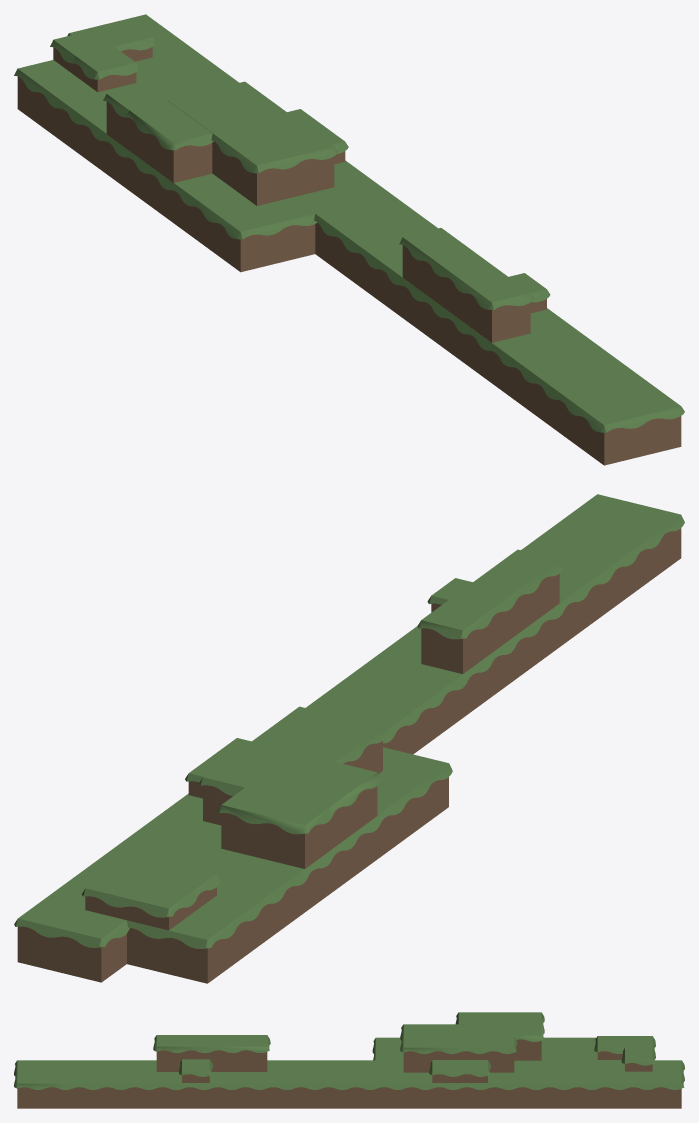
Rendered from wallgroup04.fbx.
3 views of the same model, one above another, from view 1: azimuth 30°, elevation 25°; view 2: azimuth 150°, elevation 25°; view 3: azimuth 270°, elevation 25° (orthographic). The views are drawn at different scales.
Parts seen in each view (by area): view 1: blockSnowLarge.002, blockSnowLarge.006, blockSnowLarge.007, blockSnowLong.001, blockSnowLong.004, blockSnowLong.003, blockSnowHalf.007, blockSnowHalf.008, blockSnowHalf.006, blockSnowHalf.002, blockSnowHalf; view 2: blockSnowLarge.002, blockSnowLarge.006, blockSnowLarge.007, blockSnowLong.001, blockSnowLong.003, blockSnowLong.004, blockSnowHalf.006, blockSnowHalf.008, blockSnowHalf.007, blockSnowHalf.002; view 3: blockSnowLarge.002, blockSnowLarge.007, blockSnowLong.001, blockSnowLarge.006, blockSnowLong.003, blockSnowHalf.002, blockSnowHalf.008, blockSnowLong.004, blockSnowHalf, blockSnowHalf.007, blockSnowHalf.006.
Part boxes in pixels (x1,y1,x2,y2): blockSnowLarge.002: (67, 14, 684, 465); blockSnowLarge.006: (14, 60, 317, 272); blockSnowLarge.007: (168, 81, 337, 205); blockSnowLong.001: (399, 228, 533, 342); blockSnowLong.004: (126, 100, 213, 182); blockSnowLong.003: (103, 75, 205, 150); blockSnowHalf.007: (72, 46, 139, 92); blockSnowHalf.008: (92, 21, 156, 61); blockSnowHalf.006: (50, 30, 113, 75); blockSnowHalf.002: (287, 109, 348, 164); blockSnowHalf: (509, 273, 550, 313); blockSnowLarge.002: (14, 494, 684, 982); blockSnowLarge.006: (127, 747, 452, 983); blockSnowLarge.007: (199, 706, 386, 825); blockSnowLong.001: (417, 549, 563, 673); blockSnowLong.003: (218, 787, 332, 868); blockSnowLong.004: (287, 762, 380, 850); blockSnowHalf.006: (125, 881, 196, 930); blockSnowHalf.008: (81, 870, 150, 920); blockSnowHalf.007: (151, 863, 220, 912); blockSnowHalf.002: (185, 738, 251, 798); blockSnowLarge.002: (14, 1060, 684, 1108); blockSnowLarge.007: (400, 1024, 517, 1072); blockSnowLong.001: (153, 1035, 270, 1071); blockSnowLarge.006: (372, 1037, 655, 1060); blockSnowLong.003: (514, 1012, 544, 1060); blockSnowHalf.002: (429, 1060, 490, 1082); blockSnowHalf.008: (621, 1047, 655, 1071); blockSnowLong.004: (455, 1012, 513, 1024); blockSnowHalf: (179, 1059, 212, 1082); blockSnowHalf.007: (594, 1036, 625, 1059); blockSnowHalf.006: (625, 1036, 655, 1050).
Size of the model in its own units: 4.18 by 2 by 24.23.
